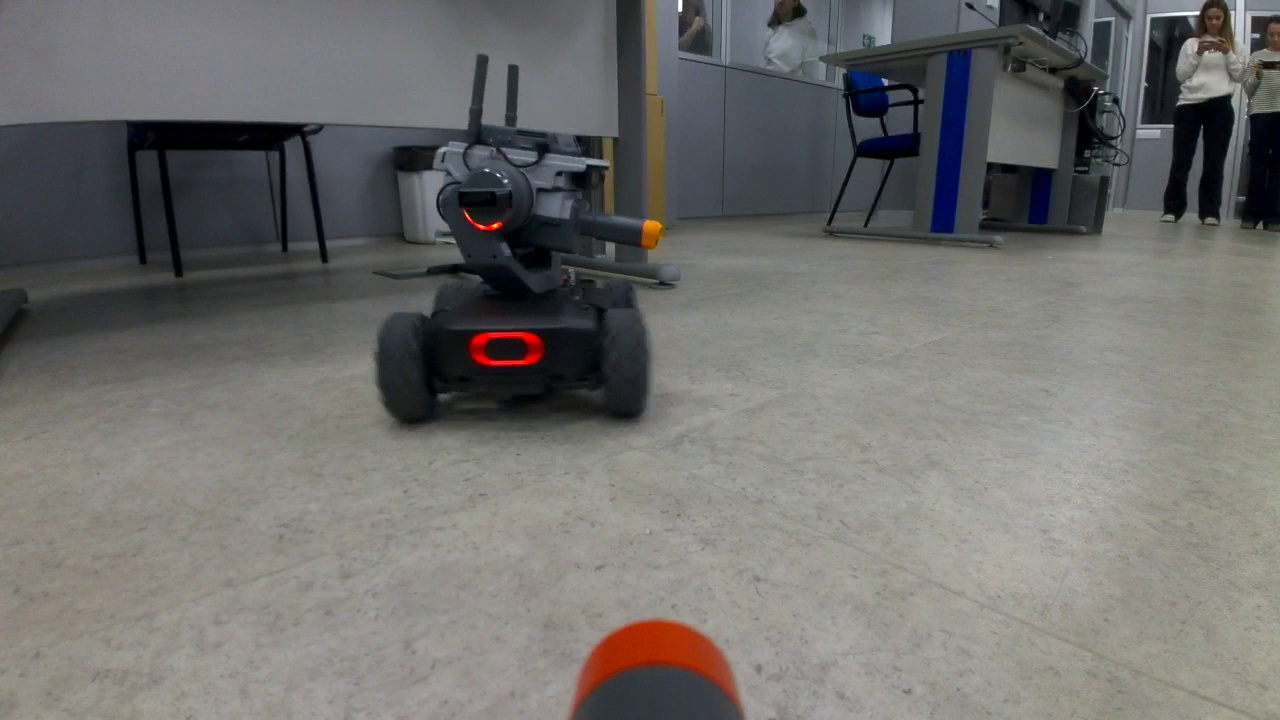robot: (374, 127, 665, 435)
